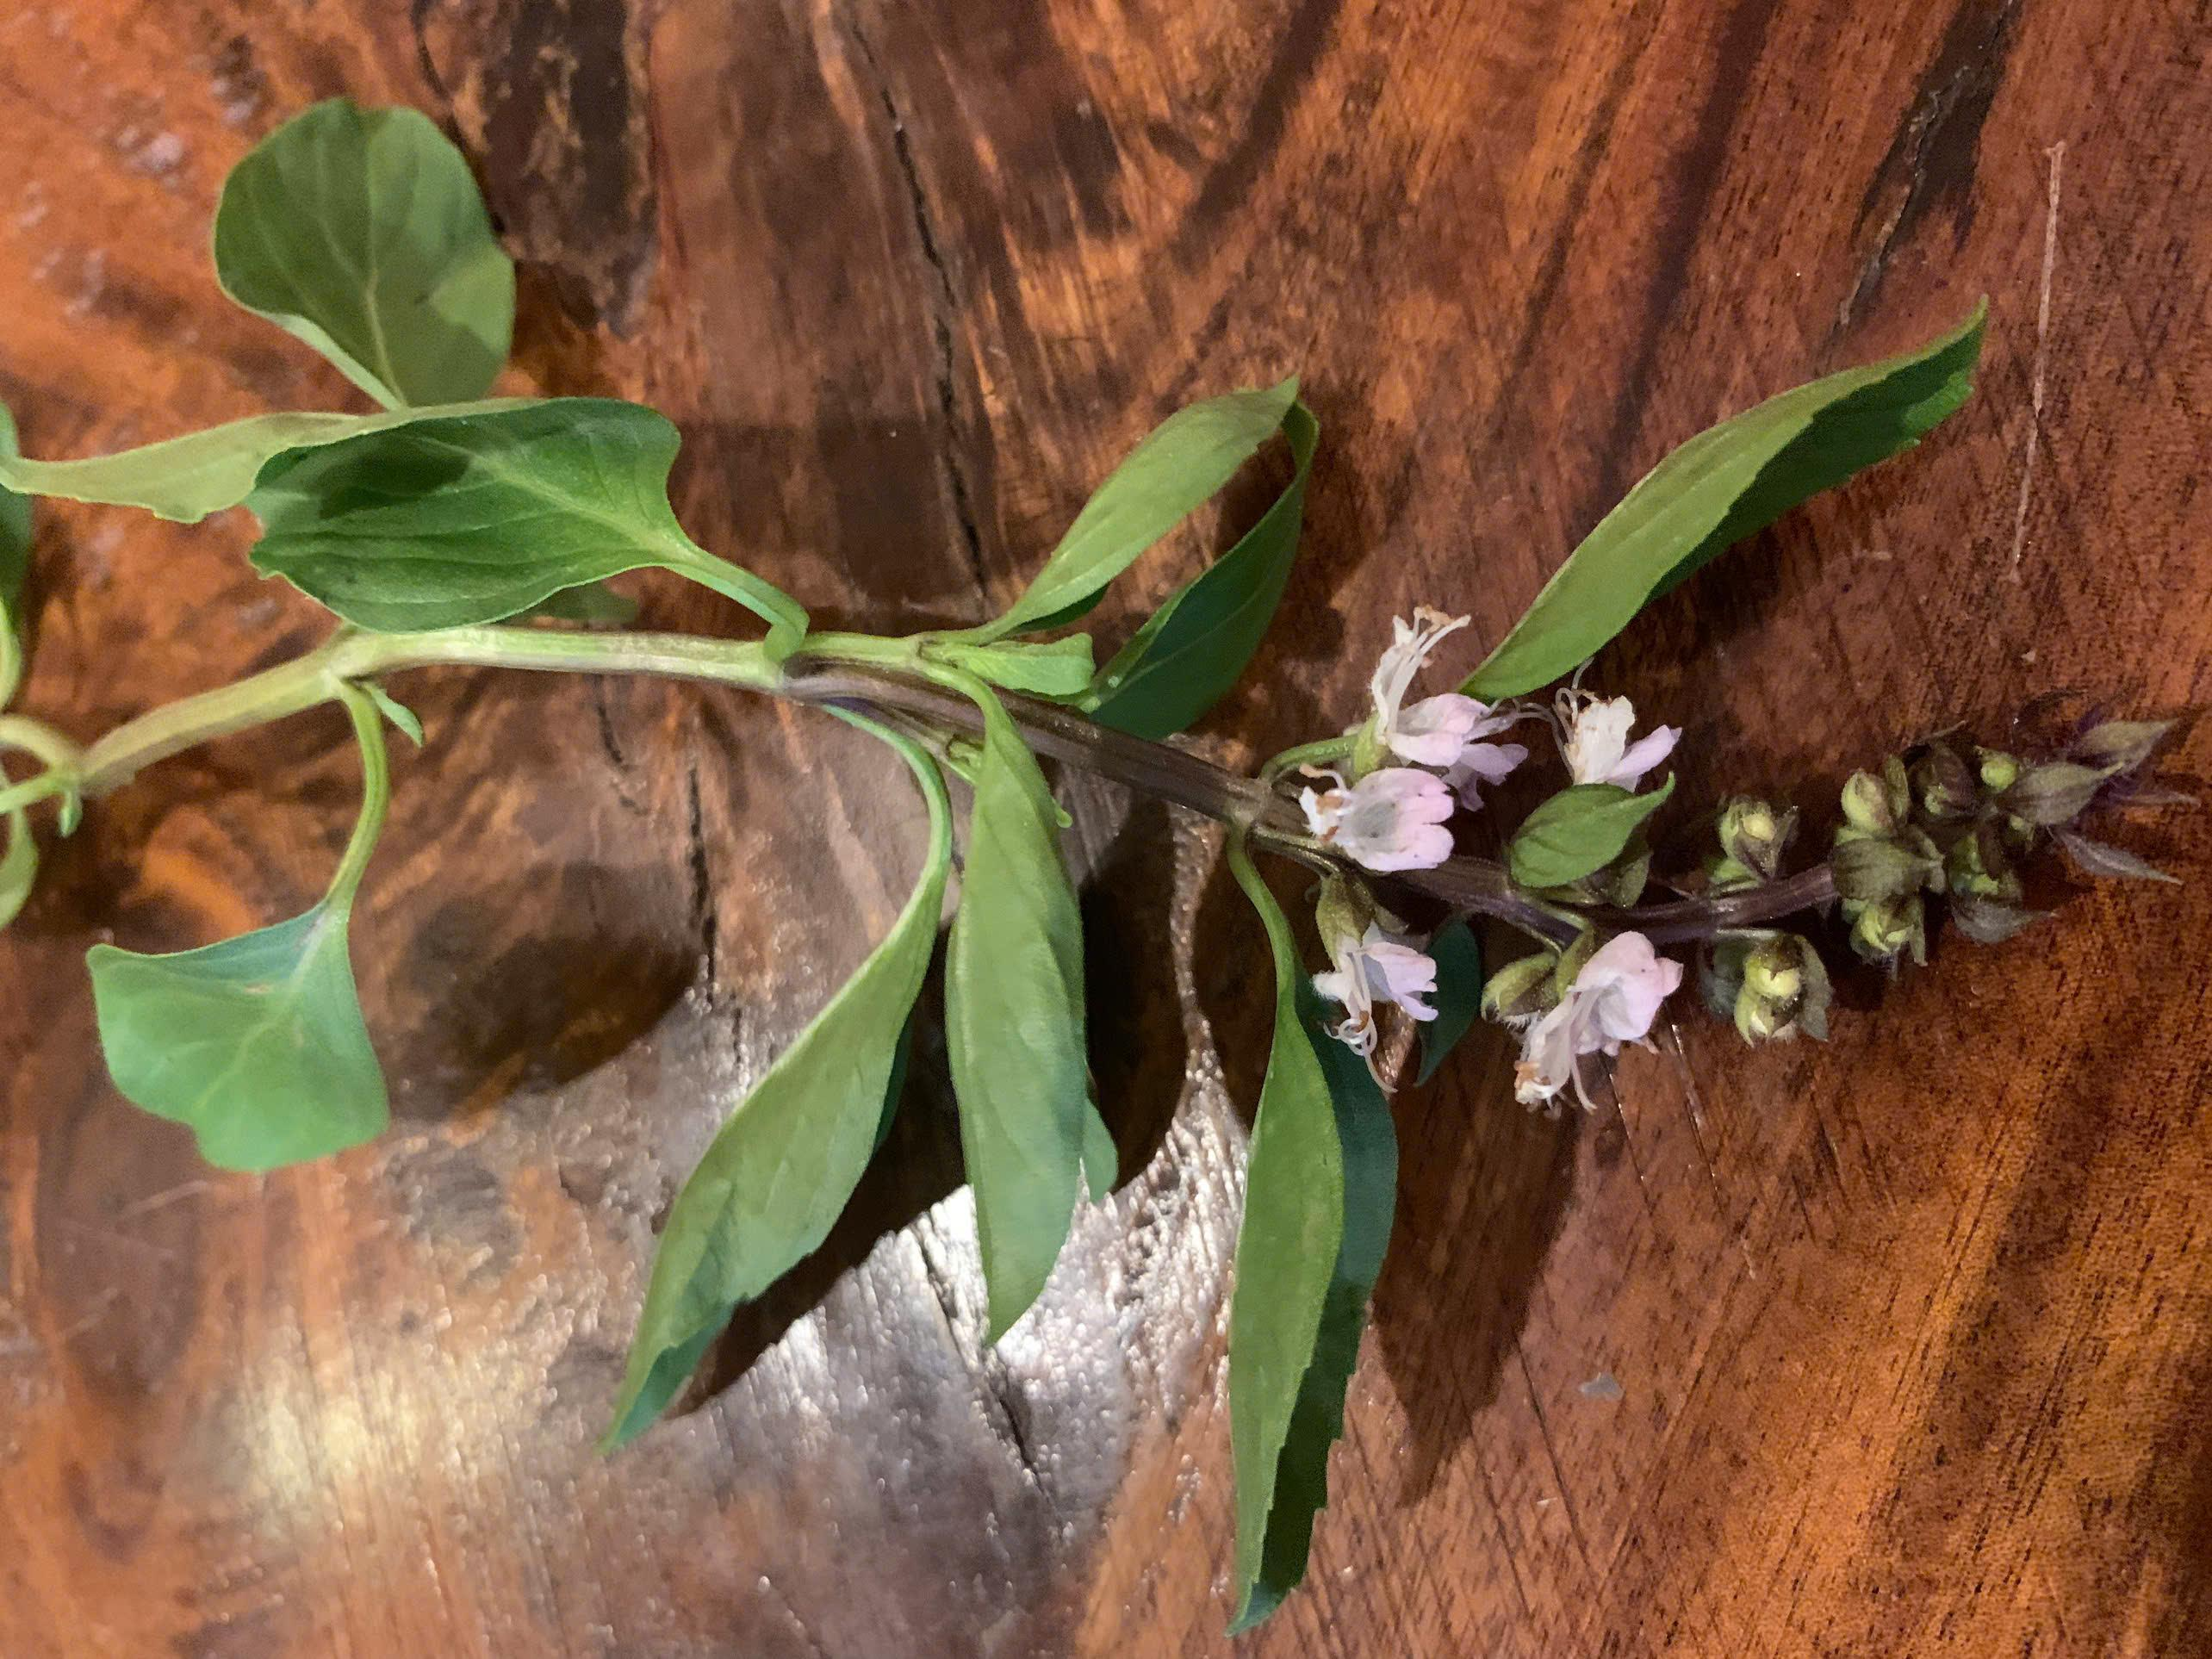Huu co: (5, 101, 1467, 1413)
